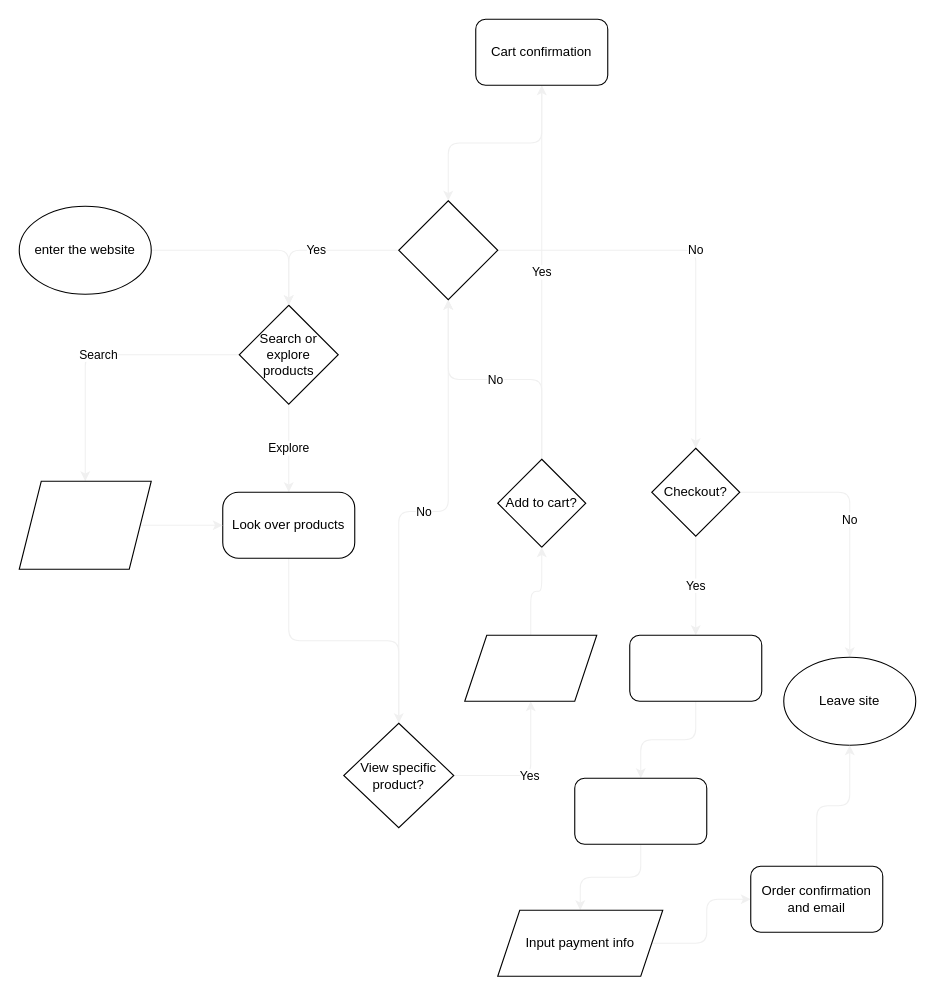
Image size: 935x996. Some labels were removed from this diagram. Here are the shapes that lost their labels. From the top down, the box of each, then its label:
(398, 200, 498, 300): Continue shopping?
(18, 480, 151, 569): Input search into website
(464, 634, 597, 701): Open project webpage
(629, 634, 762, 701): View cart
(574, 777, 707, 844): View payment
